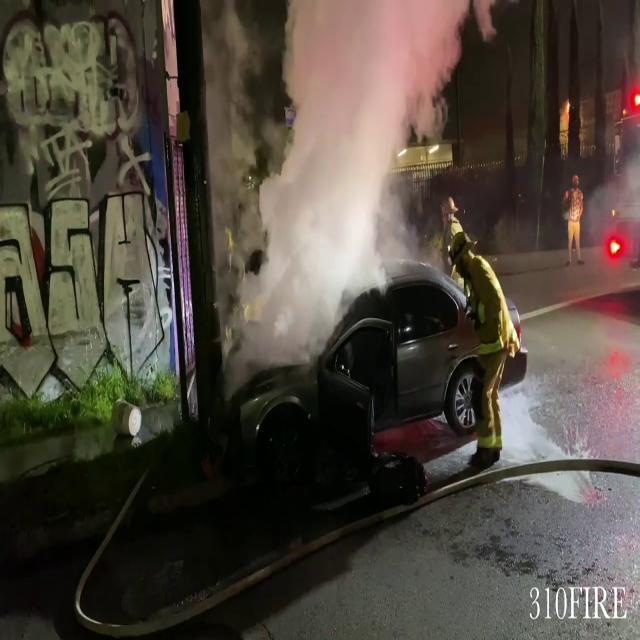Smoke: (236, 1, 455, 352), (590, 0, 640, 306)
